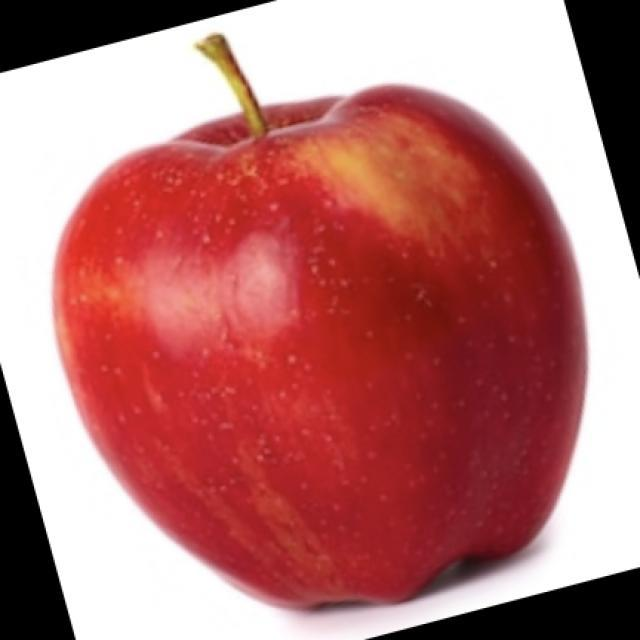Fresh Apple: (48, 87, 595, 595)
